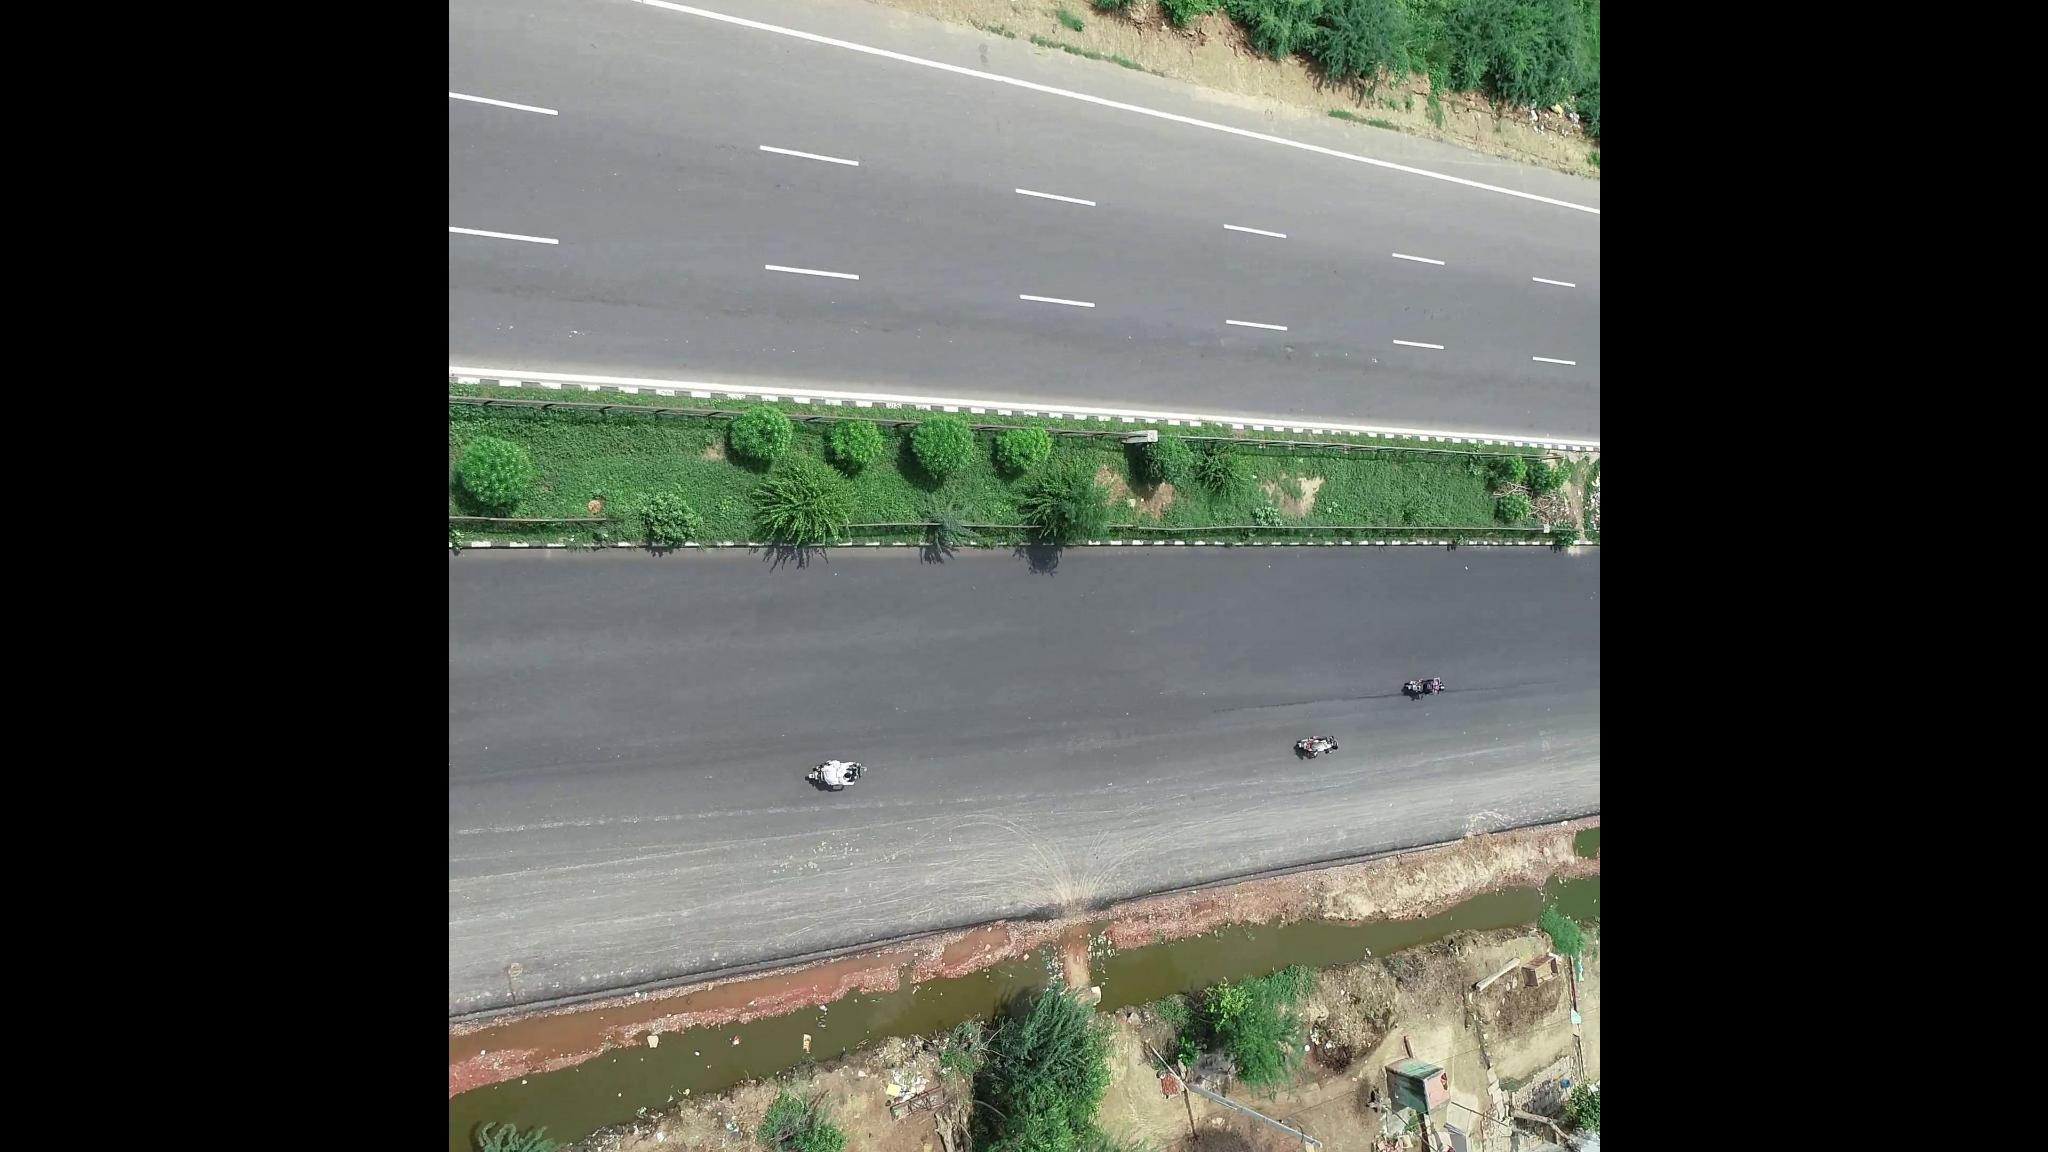Potholes: (1262, 346, 1388, 371)
